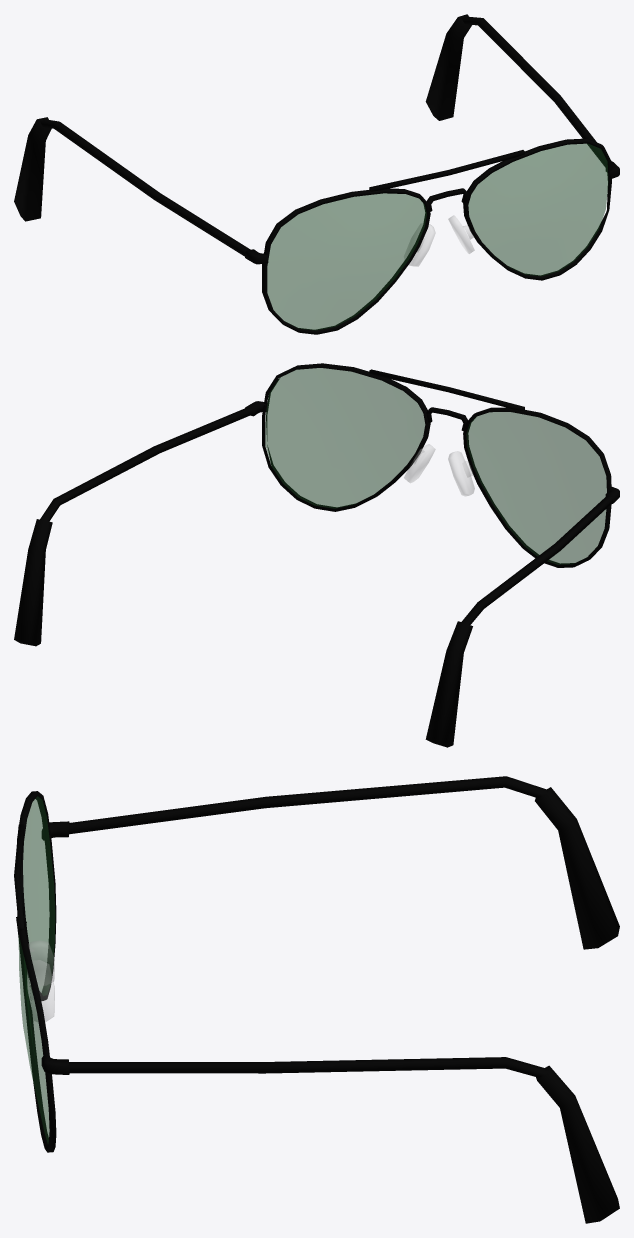
The model's file is femaleglass3.glb.
3 renders of one model, top to bottom at view 1: azimuth 30°, elevation 25°; view 2: azimuth 150°, elevation 25°; view 3: azimuth 270°, elevation 25°, orthographic. The views are drawn at different scales.
Parts seen in each view (by area): view 1: Wolf3D_Glasses; view 2: Wolf3D_Glasses; view 3: Wolf3D_Glasses.
Part boxes in pixels (left/top/right/bottom): Wolf3D_Glasses: left=14, top=14, right=619, bottom=334; Wolf3D_Glasses: left=14, top=363, right=619, bottom=747; Wolf3D_Glasses: left=14, top=776, right=619, bottom=1223.
Size of the model in its own units: 0.1617 by 0.0545 by 0.1447.
Materials: 1 (1 with a texture image).
